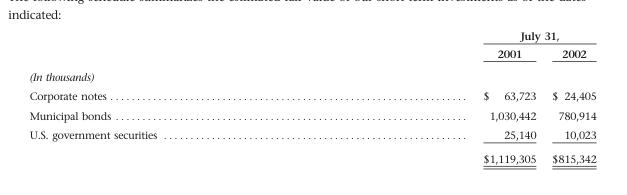table: (28, 29, 595, 164)
table column: (28, 29, 474, 164), (474, 29, 543, 164), (543, 29, 595, 164)
table column header: (28, 29, 595, 64)
table projected row header: (28, 64, 595, 86)
table row: (28, 64, 595, 86), (28, 124, 595, 146), (28, 44, 595, 64), (28, 86, 595, 105), (28, 105, 595, 124), (28, 146, 595, 164), (28, 29, 595, 44)
table spanning cell: (474, 29, 595, 44)
